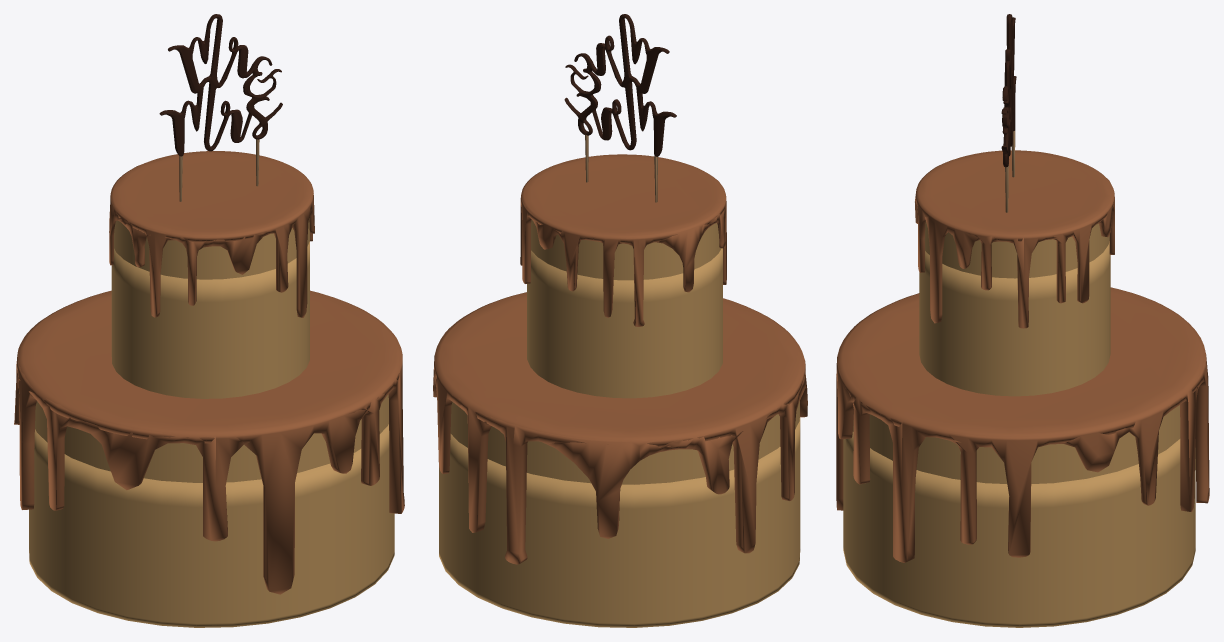
Rendered from 2-tier-caramel-ganache-mrms.glb.
3 views of the same model, side by side, from view 1: azimuth 30°, elevation 25°; view 2: azimuth 150°, elevation 25°; view 3: azimuth 270°, elevation 25° (orthographic).
Visible parts, largest first — view 1: Cylinder.023, tHE ICING.004, Cylinder.013, tHE ICING.003, mrms; view 2: Cylinder.023, tHE ICING.004, Cylinder.013, tHE ICING.003, mrms; view 3: Cylinder.023, tHE ICING.004, Cylinder.013, tHE ICING.003, mrms.
Boxes of the visible parts, box(x1,y1,x2,y2) form: Cylinder.023: box(29, 394, 394, 627); tHE ICING.004: box(14, 290, 404, 594); Cylinder.013: box(111, 218, 309, 398); tHE ICING.003: box(109, 151, 314, 317); mrms: box(159, 14, 282, 201); Cylinder.023: box(439, 401, 800, 627); tHE ICING.004: box(433, 292, 807, 564); Cylinder.013: box(527, 220, 722, 398); tHE ICING.003: box(520, 154, 726, 326); mrms: box(564, 14, 676, 202); Cylinder.023: box(843, 405, 1195, 627); tHE ICING.004: box(836, 287, 1209, 562); Cylinder.013: box(919, 221, 1110, 396); tHE ICING.003: box(915, 150, 1114, 328); mrms: box(1001, 14, 1016, 212).
Bounding box in the file's own units: 3.53 × 5.48 × 3.46.
